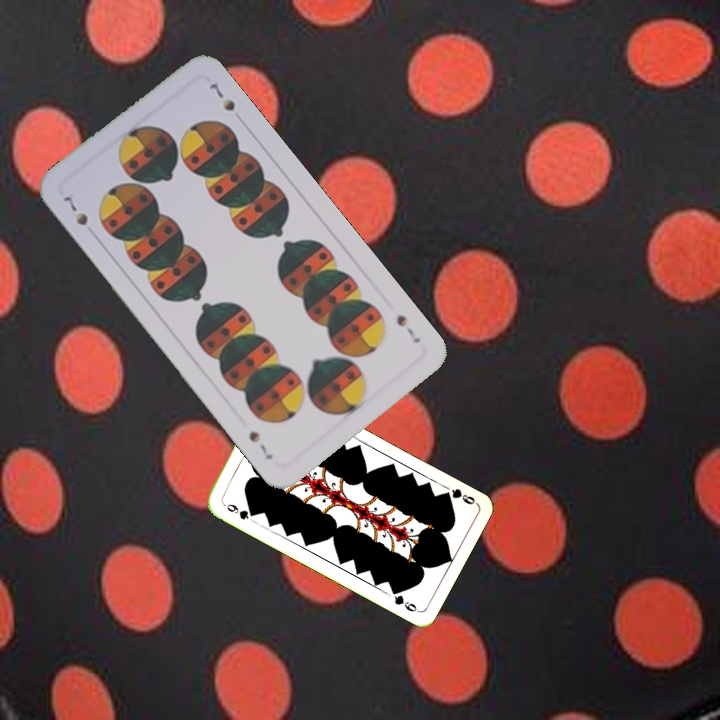G9: (218, 498, 258, 522), (438, 484, 479, 507)
S7: (59, 191, 91, 228), (392, 310, 424, 346)
